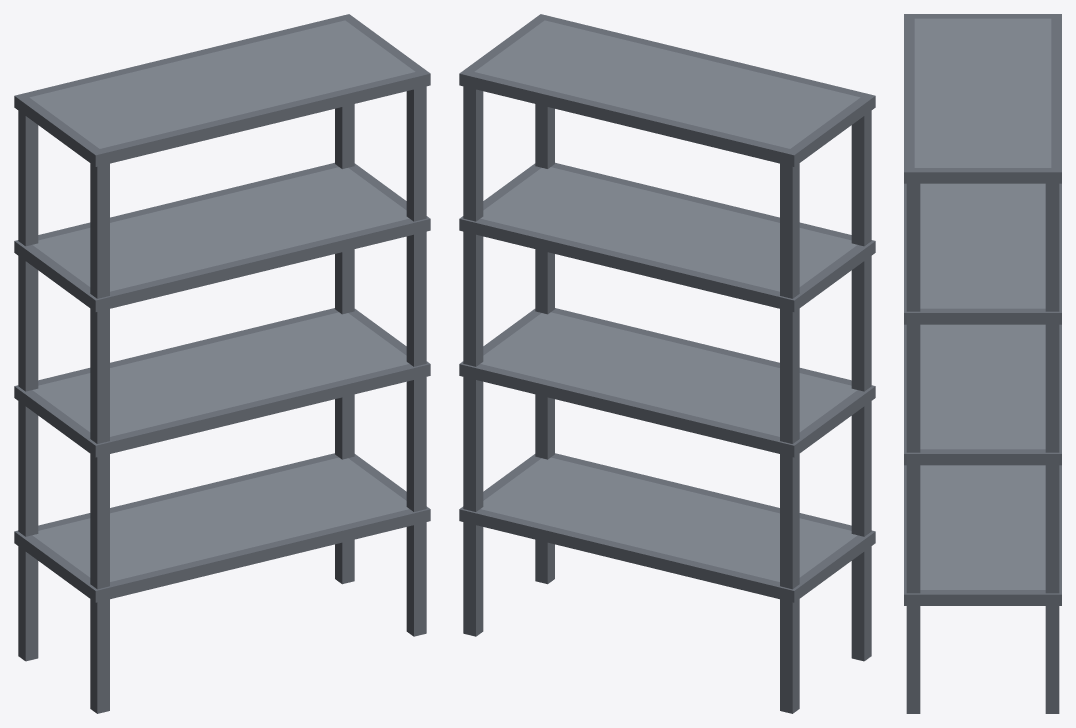
The model's file is SM_Prop_Shelf_01.obj.
3 views of the same model, side by side, from view 1: azimuth 30°, elevation 25°; view 2: azimuth 150°, elevation 25°; view 3: azimuth 270°, elevation 25° (orthographic). The views are drawn at different scales.
Parts seen in each view (by area): view 1: SM_Prop_Shelf_01_0; view 2: SM_Prop_Shelf_01_0; view 3: SM_Prop_Shelf_01_0.
Part boxes in pixels (x1=…): SM_Prop_Shelf_01_0: x1=14, y1=14, x2=430, y2=713; SM_Prop_Shelf_01_0: x1=459, y1=14, x2=875, y2=713; SM_Prop_Shelf_01_0: x1=904, y1=14, x2=1061, y2=713.
Size of the model in its own units: 1.21 by 1.93 by 0.5084.
1 material, 1 textured.
